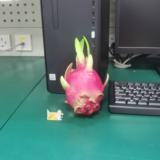pitaya: (61, 48, 105, 115)
